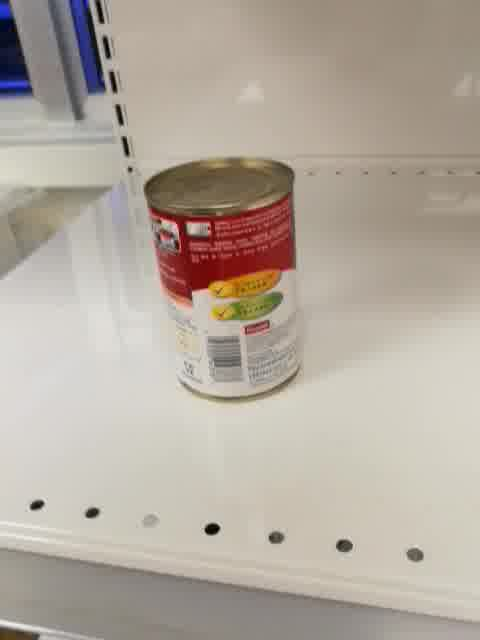tomatosoup: (143, 156, 304, 403)
